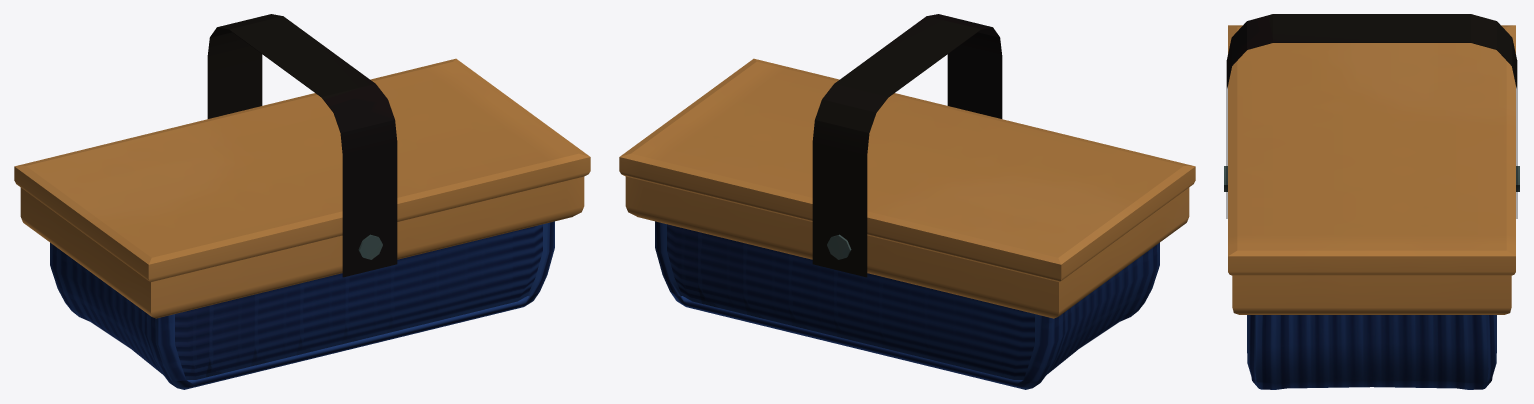
File: Eraser 1.fbx
3 views of the same model, side by side, from view 1: azimuth 30°, elevation 25°; view 2: azimuth 150°, elevation 25°; view 3: azimuth 270°, elevation 25° (orthographic). The views are drawn at different scales.
Parts seen in each view (by area): view 1: pCube28; view 2: pCube28; view 3: pCube28.
Part boxes in pixels (x1,y1,x2,y2): pCube28: (14,14,590,389); pCube28: (619,14,1195,389); pCube28: (1224,14,1519,389).
Bounding box in the file's own units: 137 × 75.71 × 74.19.
1 material, 1 textured.
